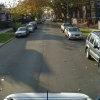Car: (60, 22, 84, 44)
